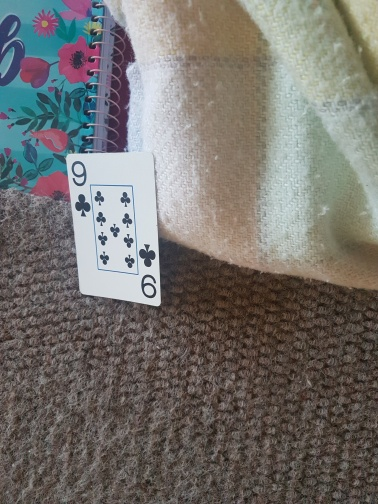nine: (65, 151, 164, 310)
